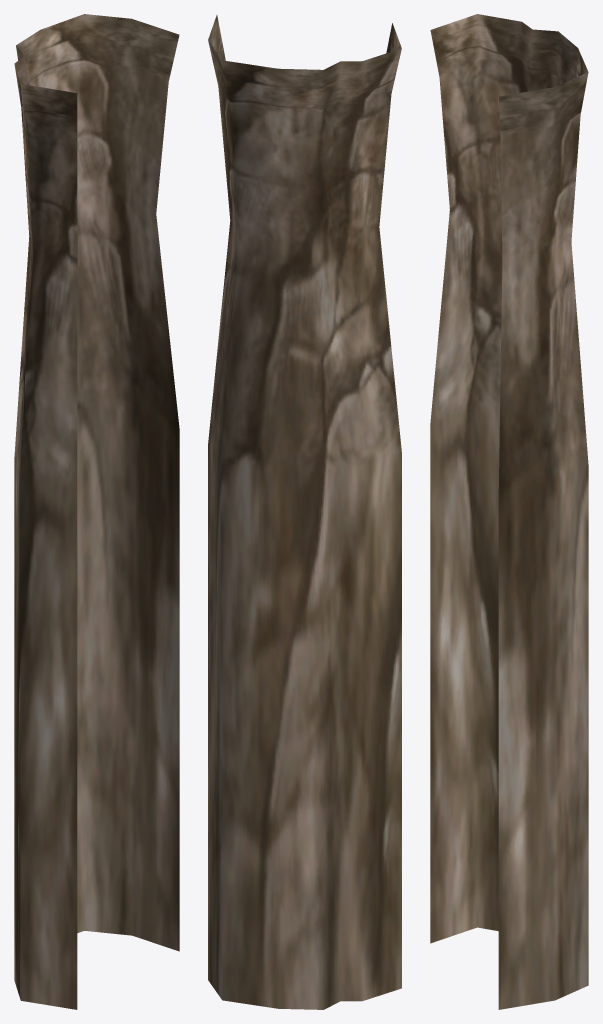
The model's file is OVERHILL_A_01_LINE47.fbx.
3 views of the same model, side by side, from view 1: azimuth 30°, elevation 25°; view 2: azimuth 150°, elevation 25°; view 3: azimuth 270°, elevation 25° (orthographic). The views are drawn at different scales.
Visible parts, largest first — view 1: OVERHILL_A_01_LINE47; view 2: OVERHILL_A_01_LINE47; view 3: OVERHILL_A_01_LINE47.
Boxes of the visible parts, x1=… form: OVERHILL_A_01_LINE47: x1=14, y1=14, x2=179, y2=1009; OVERHILL_A_01_LINE47: x1=208, y1=15, x2=401, y2=1009; OVERHILL_A_01_LINE47: x1=430, y1=14, x2=588, y2=1009.
Bounding box in the file's own units: 30853 × 159395 × 24998.
1 material, 1 textured.
